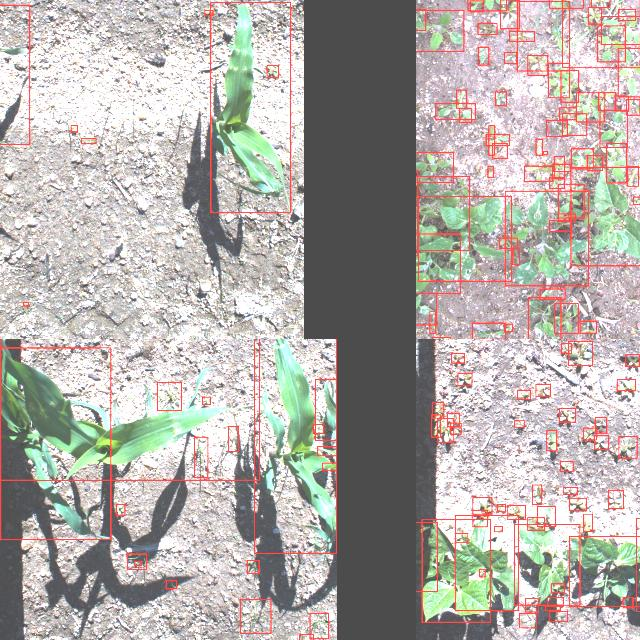crop: (0, 339, 260, 480), (0, 348, 110, 540), (255, 339, 337, 553), (211, 2, 291, 212), (418, 196, 512, 282), (505, 190, 589, 286), (422, 520, 491, 622), (570, 166, 640, 265), (454, 516, 518, 610), (514, 524, 580, 606), (569, 536, 640, 606), (0, 5, 29, 144), (416, 176, 469, 250), (416, 234, 460, 294), (416, 522, 437, 591), (316, 380, 336, 440), (318, 446, 337, 456), (323, 463, 337, 471)
weed: (562, 0, 640, 68), (517, 1, 569, 71), (416, 10, 463, 51), (527, 297, 560, 339), (416, 152, 453, 182), (601, 16, 640, 44), (240, 599, 272, 633), (618, 47, 640, 96), (600, 110, 628, 148), (597, 26, 625, 62), (558, 185, 584, 218), (576, 92, 604, 121), (606, 143, 626, 183), (548, 62, 570, 98), (156, 382, 182, 411), (554, 303, 578, 333), (435, 104, 475, 120), (416, 293, 436, 325), (568, 340, 592, 366), (561, 70, 579, 102), (194, 437, 208, 478), (562, 113, 588, 135), (472, 323, 506, 339), (499, 0, 518, 28), (310, 613, 328, 639), (524, 166, 552, 182), (571, 149, 593, 169), (436, 418, 454, 442), (467, 0, 506, 11), (528, 55, 548, 75), (619, 436, 637, 458), (537, 506, 555, 526), (546, 120, 568, 136), (598, 92, 616, 110), (127, 554, 147, 570), (472, 498, 492, 514), (608, 489, 624, 508), (486, 134, 510, 146), (507, 504, 525, 520), (549, 0, 583, 8), (472, 509, 488, 526), (549, 220, 571, 232), (228, 426, 238, 452), (520, 612, 536, 628), (510, 31, 534, 41), (540, 289, 564, 299), (492, 144, 508, 158), (588, 8, 602, 24), (626, 99, 640, 115), (587, 156, 603, 170), (559, 408, 575, 422), (554, 157, 564, 179), (430, 415, 440, 437), (478, 23, 497, 34), (628, 166, 638, 186), (616, 380, 636, 390), (547, 431, 557, 451), (532, 485, 542, 505), (594, 435, 608, 449), (560, 108, 576, 120), (580, 321, 596, 333), (570, 498, 586, 510), (432, 402, 444, 418), (528, 518, 544, 530), (416, 9, 425, 30), (478, 47, 488, 65), (618, 10, 636, 20), (456, 90, 466, 108), (489, 125, 495, 155), (499, 238, 517, 248), (549, 611, 567, 621), (459, 108, 471, 122), (616, 96, 628, 110), (247, 560, 259, 574), (626, 354, 640, 366), (595, 418, 607, 432), (536, 384, 550, 396), (457, 373, 471, 385), (447, 413, 459, 427), (526, 598, 538, 612), (591, 0, 610, 8), (504, 52, 516, 64), (470, 0, 482, 12), (558, 214, 576, 222), (584, 514, 592, 532), (584, 428, 596, 440), (496, 92, 506, 106), (550, 178, 564, 188), (451, 353, 464, 363), (512, 248, 520, 264), (554, 164, 570, 172), (547, 598, 563, 606), (268, 65, 278, 77), (429, 312, 435, 332), (560, 343, 572, 353), (560, 462, 572, 472), (518, 390, 530, 400), (455, 533, 467, 543), (314, 424, 324, 434), (450, 424, 460, 434), (623, 598, 633, 608), (80, 138, 96, 144), (536, 139, 542, 155), (116, 504, 124, 516), (552, 584, 564, 592), (166, 581, 177, 589), (300, 634, 314, 640), (563, 488, 577, 494), (496, 504, 506, 512), (487, 166, 493, 178), (504, 324, 512, 332), (202, 397, 210, 405), (514, 421, 524, 427), (546, 606, 560, 610), (70, 126, 78, 132), (205, 10, 213, 16), (134, 560, 142, 566), (494, 526, 502, 532), (479, 569, 485, 577), (634, 197, 640, 204), (24, 302, 28, 306), (543, 151, 547, 155)
